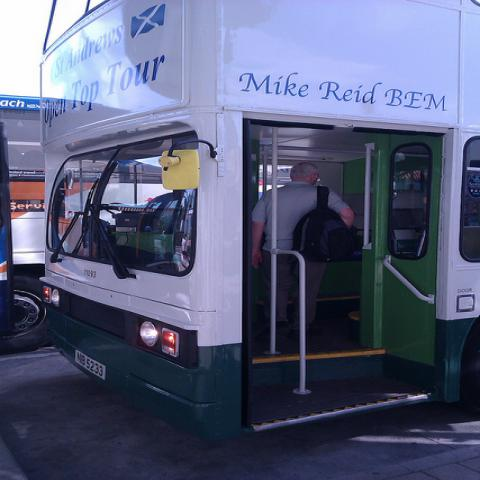bus: (41, 2, 479, 439), (3, 97, 52, 354)
